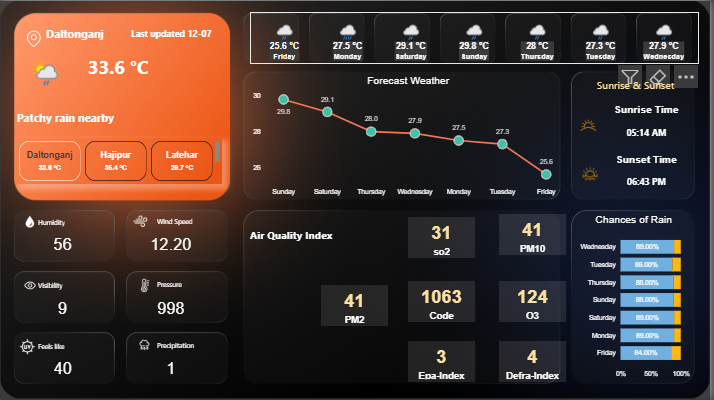

The dashboard page shown, as its layout file describes it:
{"tool":"powerbi","page":{"name":"Weather_API-Dashboard","canvas":[1280,720],"ordinal":0},"visuals":[{"type":"advancedSlicerVisual","fields":{"Values":["Locations.location.name"]},"box":[28.1,246.4,372.1,82.7],"z":0},{"type":"shape","box":[159,92,240,49],"z":1000},{"type":"shape","box":[30,184,371,50],"z":2000},{"type":"shape","box":[82.3,31.9,136.1,50.4],"z":3000},{"type":"image","box":[32.8,47.9,57.1,38.6],"z":4000},{"type":"shape","box":[218.4,31.9,181.4,50.4],"z":5000},{"type":"cardVisual","fields":{"Data":["Min(Current.current.condition.icon)"]},"box":[31.9,82.3,102.5,89],"z":6000},{"type":"image","box":[28.6,383,50.4,31.9],"z":7000},{"type":"image","box":[25.2,495.5,58.8,33.6],"z":8000},{"type":"shape","box":[68.9,495.5,124.3,33.6],"z":9000},{"type":"shape","box":[68.9,383,142.8,31.9],"z":10000},{"type":"image","box":[235.2,378,36.7,37],"z":11000},{"type":"shape","box":[283.9,378,127.7,37],"z":12000},{"type":"shape","box":[68.9,603,127.7,38.6],"z":13000},{"type":"image","box":[28.6,603,40.3,38.6],"z":14000},{"type":"image","box":[235.2,495.5,53.8,33.6],"z":15000},{"type":"shape","box":[283.9,492.2,127.7,37],"z":16000},{"type":"image","box":[235.2,603,52.1,31.9],"z":17000},{"type":"shape","box":[283.9,601.4,127.7,37],"z":18000},{"type":"card","fields":{"Values":["Sum(Current.current.humidity)"]},"box":[79,414.9,67.2,48.7],"z":19000},{"type":"card","fields":{"Values":["Sum(Current.current.wind_kph)"]},"box":[263.6,415.4,89.9,47.9],"z":20000},{"type":"card","fields":{"Values":["Sum(Current.current.pressure_mb)"]},"box":[263.6,529.2,89.9,47.9],"z":21000},{"type":"card","fields":{"Values":["Sum(Current.current.precip_mm)"]},"box":[263.6,637,89.9,49.9],"z":22000},{"type":"card","fields":{"Values":["Sum(Current.current.vis_km)"]},"box":[79,529.1,67.2,48.7],"z":23000},{"type":"card","fields":{"Values":["Sum(Current.current.feelslike_c)"]},"box":[79.4,638.3,67.8,48],"z":24000},{"type":"advancedSlicerVisual","fields":{"Values":["Forecast_Day.Day_name"]},"box":[449.8,19.8,810.3,94.3],"z":25000},{"type":"lineChart","title":"Forecast Weather","fields":{"Category":["Forecast_Day.Day_name"],"Y":["Sum(Forecast_Day.forecast.forecastday.day.avgtemp_c)"]},"box":[449.8,134,570.5,226.6],"z":26000},{"type":"shape","box":[1044.6,134.3,204.1,36.8],"z":27000},{"type":"shape","title":"Sunset Time","box":[1084.3,275.6,163.7,71.9],"z":28000},{"type":"shape","title":"Sunrise Time","box":[1084.3,185.7,163.7,75.9],"z":29000},{"type":"image","box":[1036.4,199.7,47.9,47.9],"z":30000},{"type":"image","box":[1044.4,291.5,39.9,37.9],"z":31000},{"type":"hundredPercentStackedBarChart","title":"Chances of Rain","fields":{"Category":["Forecast_Day.Day_name"],"Y":["Sum(Forecast_Day.forecast.forecastday.day.daily_chance_of_rain)","_Measures.Left_Value_Rain"]},"box":[1036.4,383.4,211.7,303.5],"z":31001},{"type":"shape","box":[449.8,396.9,218.3,51.3],"z":31002},{"type":"card","title":"PM 10","fields":{"Values":["Sum(Current.current.air_quality.pm10)"]},"box":[899.6,384,120.8,73.9],"z":31003},{"type":"card","title":"PM 10","fields":{"Values":["Sum(Current.current.air_quality.o3)"]},"box":[899.6,504.8,120.8,73.9],"z":31004},{"type":"card","title":"PM 10","fields":{"Values":["Sum(Current.current.air_quality.pm2_5)"]},"box":[578.7,512,120.8,73.9],"z":31005},{"type":"card","title":"PM 10","fields":{"Values":["Sum(Current.current.air_quality.us-epa-index)"]},"box":[735.5,613,120.8,73.9],"z":31006},{"type":"card","title":"PM 10","fields":{"Values":["Sum(Current.current.air_quality.gb-defra-index)"]},"box":[899.6,613,120.8,73.9],"z":31007},{"type":"card","title":"PM 10","fields":{"Values":["Sum(Current.current.air_quality.so2)"]},"box":[735.5,389.4,120.8,73.9],"z":31008},{"type":"card","title":"PM 10","fields":{"Values":["Sum(Current.current.condition.code)"]},"box":[735.5,504.8,120.8,73.9],"z":31009}]}

Visuals, with their boxes in screenshot pixels (x1, y1, x2, y2), scaled from the page's 1280x720 canvas onto the 714x400 screenshot:
advancedSlicerVisual - Locations.location.name: (x1=16, y1=137, x2=223, y2=183)
shape: (x1=89, y1=51, x2=223, y2=78)
shape: (x1=17, y1=102, x2=224, y2=130)
shape: (x1=46, y1=18, x2=122, y2=46)
image: (x1=18, y1=27, x2=50, y2=48)
shape: (x1=122, y1=18, x2=223, y2=46)
cardVisual - Min(Current.current.condition.icon): (x1=18, y1=46, x2=75, y2=95)
image: (x1=16, y1=213, x2=44, y2=230)
image: (x1=14, y1=275, x2=47, y2=294)
shape: (x1=38, y1=275, x2=108, y2=294)
shape: (x1=38, y1=213, x2=118, y2=230)
image: (x1=131, y1=210, x2=152, y2=231)
shape: (x1=158, y1=210, x2=230, y2=231)
shape: (x1=38, y1=335, x2=110, y2=356)
image: (x1=16, y1=335, x2=38, y2=356)
image: (x1=131, y1=275, x2=161, y2=294)
shape: (x1=158, y1=273, x2=230, y2=294)
image: (x1=131, y1=335, x2=160, y2=353)
shape: (x1=158, y1=334, x2=230, y2=355)
card - Sum(Current.current.humidity): (x1=44, y1=230, x2=82, y2=258)
card - Sum(Current.current.wind_kph): (x1=147, y1=231, x2=197, y2=257)
card - Sum(Current.current.pressure_mb): (x1=147, y1=294, x2=197, y2=321)
card - Sum(Current.current.precip_mm): (x1=147, y1=354, x2=197, y2=382)
card - Sum(Current.current.vis_km): (x1=44, y1=294, x2=82, y2=321)
card - Sum(Current.current.feelslike_c): (x1=44, y1=355, x2=82, y2=381)
advancedSlicerVisual - Forecast_Day.Day_name: (x1=251, y1=11, x2=703, y2=63)
"Forecast Weather" lineChart: (x1=251, y1=74, x2=569, y2=200)
shape: (x1=583, y1=75, x2=697, y2=95)
"Sunset Time" shape: (x1=605, y1=153, x2=696, y2=193)
"Sunrise Time" shape: (x1=605, y1=103, x2=696, y2=145)
image: (x1=578, y1=111, x2=605, y2=138)
image: (x1=583, y1=162, x2=605, y2=183)
"Chances of Rain" hundredPercentStackedBarChart: (x1=578, y1=213, x2=696, y2=382)
shape: (x1=251, y1=220, x2=373, y2=249)
"PM 10" card: (x1=502, y1=213, x2=569, y2=254)
"PM 10" card: (x1=502, y1=280, x2=569, y2=322)
"PM 10" card: (x1=323, y1=284, x2=390, y2=326)
"PM 10" card: (x1=410, y1=341, x2=478, y2=382)
"PM 10" card: (x1=502, y1=341, x2=569, y2=382)
"PM 10" card: (x1=410, y1=216, x2=478, y2=257)
"PM 10" card: (x1=410, y1=280, x2=478, y2=322)
